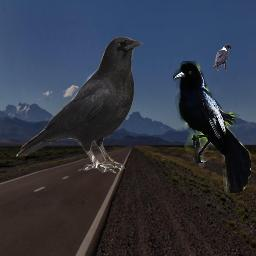Crow: (16, 34, 144, 174), (173, 61, 251, 193), (213, 44, 231, 71)
